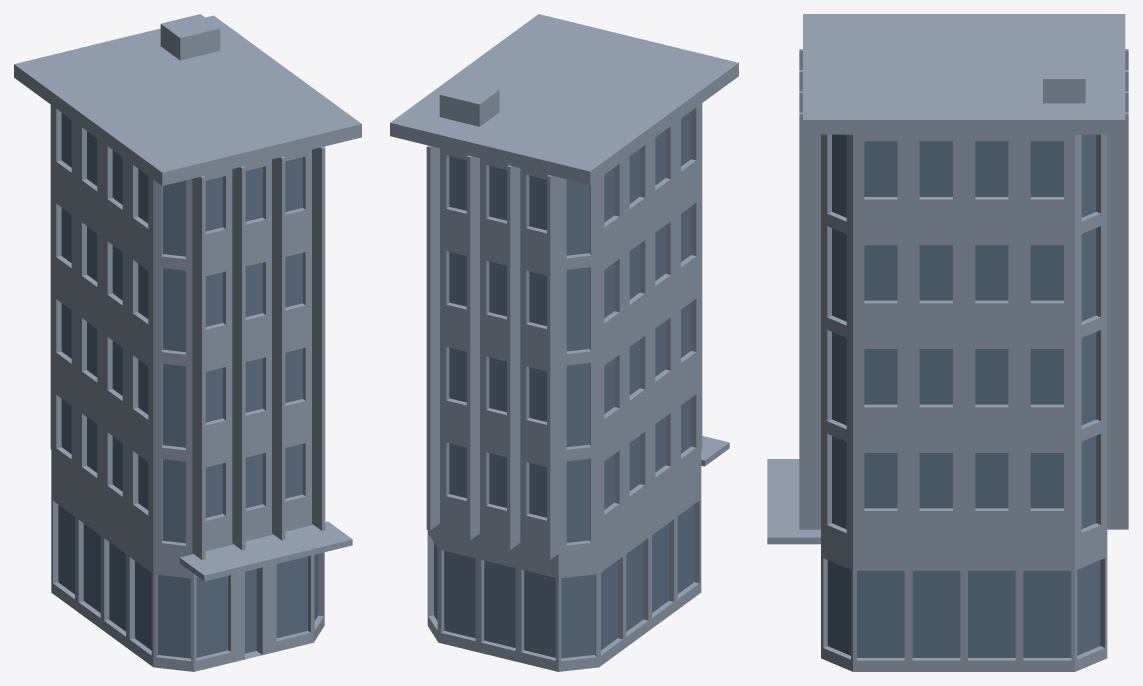
File: building_b.glb
The picture shows the model from 3 angles, left to right: view 1: azimuth 30°, elevation 25°; view 2: azimuth 150°, elevation 25°; view 3: azimuth 270°, elevation 25°; orthographic projection. The views are drawn at different scales.
Parts seen in each view (by area): view 1: building_b; view 2: building_b; view 3: building_b.
Part boxes in pixels (<box>): building_b: <box>14,14,361,671</box>; building_b: <box>390,14,738,671</box>; building_b: <box>767,14,1128,671</box>.
Size of the model in its own units: 7 by 18 by 10.1.
